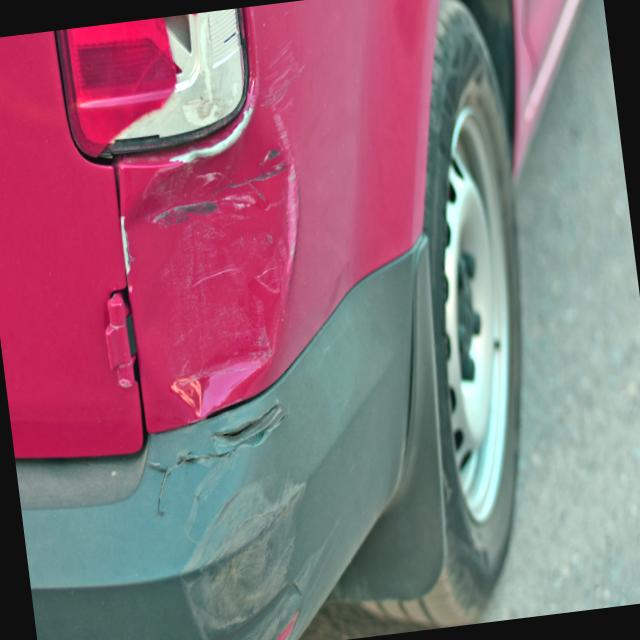Cabossage: (115, 102, 345, 447)
Phare abime: (79, 6, 267, 163)
Rayure: (134, 136, 309, 260)
